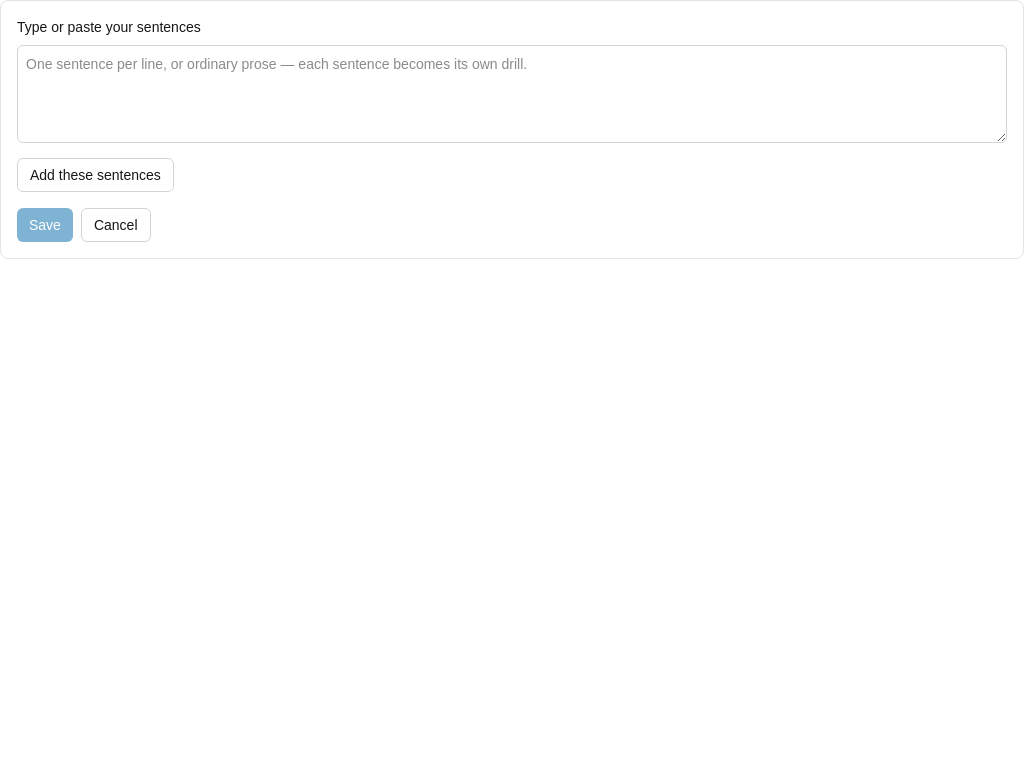
SentenceEditor — adding sentences › lets a teacher drop a sentence they do not want
In the text box labelled "Type or paste your sentences": (512, 94) x1=17 y1=45 x2=1007 y2=143, type "One sentence. Another sentence."
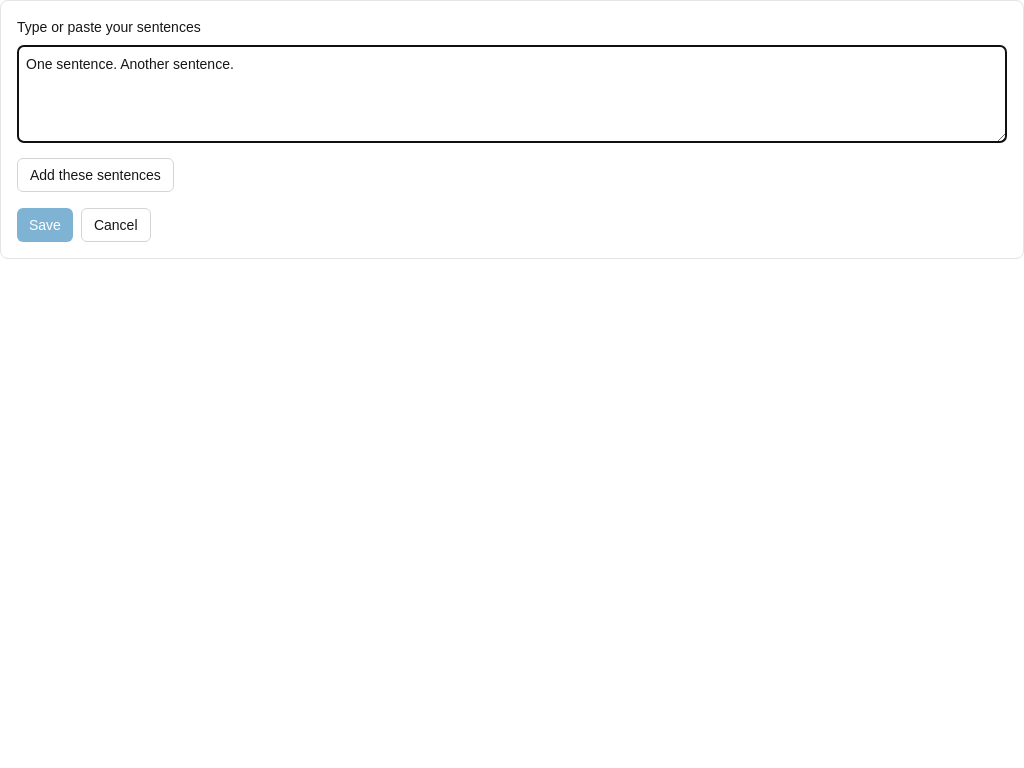
Click the button "Add these sentences": (95, 175) x1=17 y1=158 x2=174 y2=192
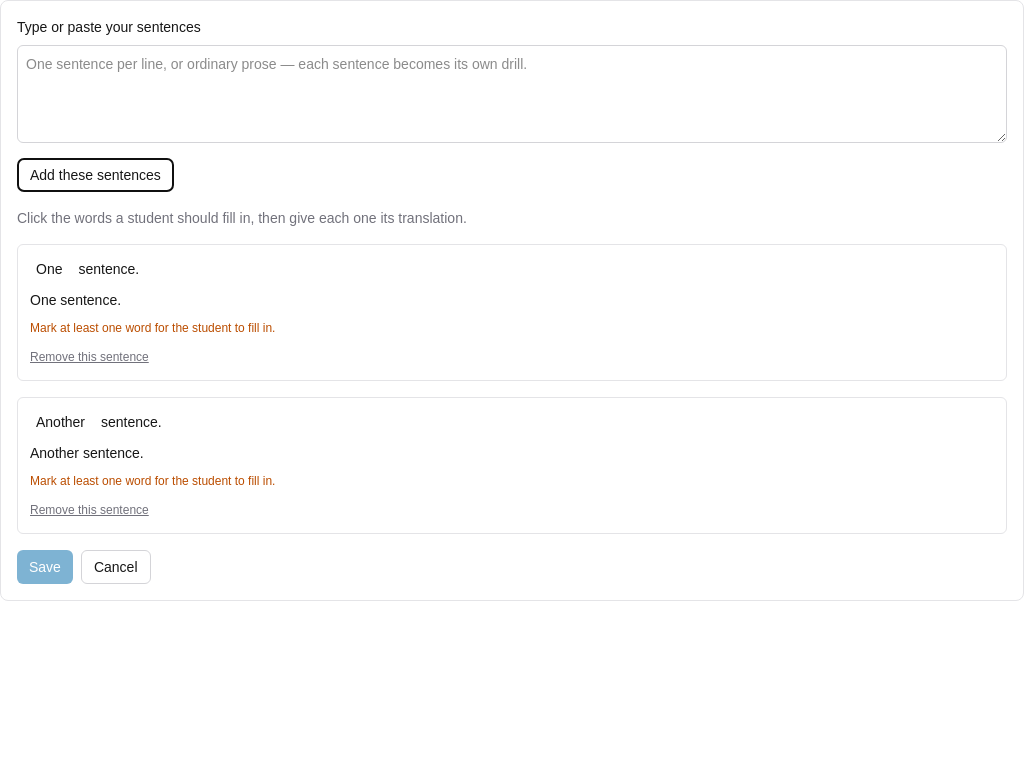
Expected: the number of list items with test id "sentence-row" is 2, x1=17 y1=244 x2=1007 y2=381; x1=17 y1=397 x2=1007 y2=534
Click the 2nd button "Remove this sentence": (89, 510) x1=30 y1=502 x2=149 y2=518
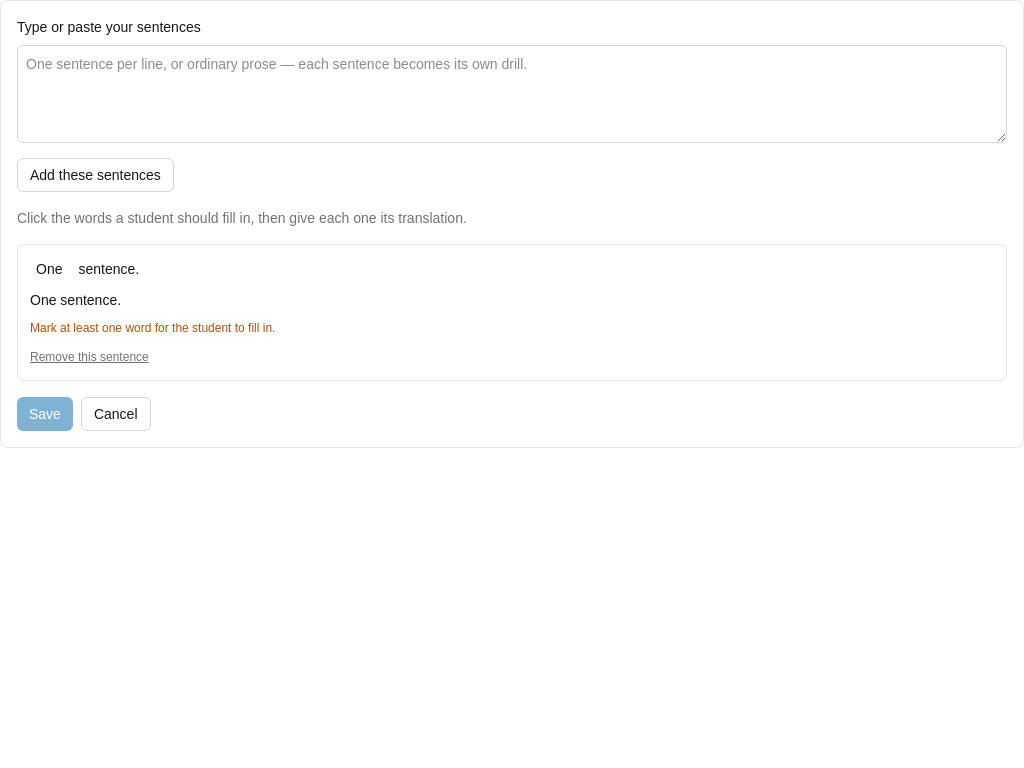
Expected: the number of list items with test id "sentence-row" is 1, x1=17 y1=244 x2=1007 y2=381
